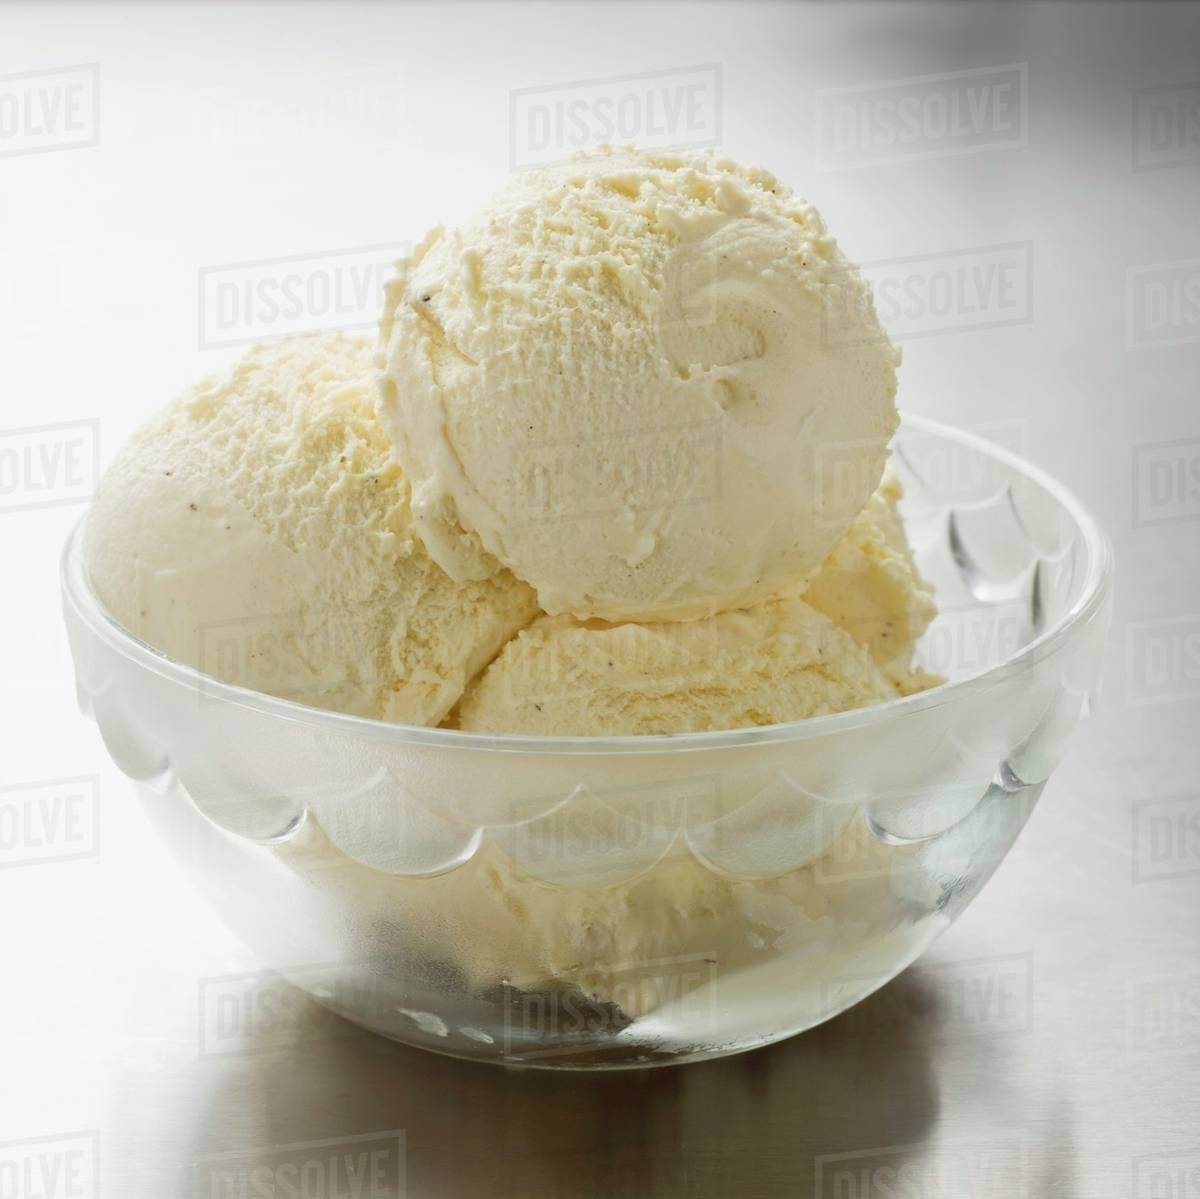ice-cream: (380, 143, 898, 625), (85, 330, 519, 741), (487, 604, 901, 1012)
